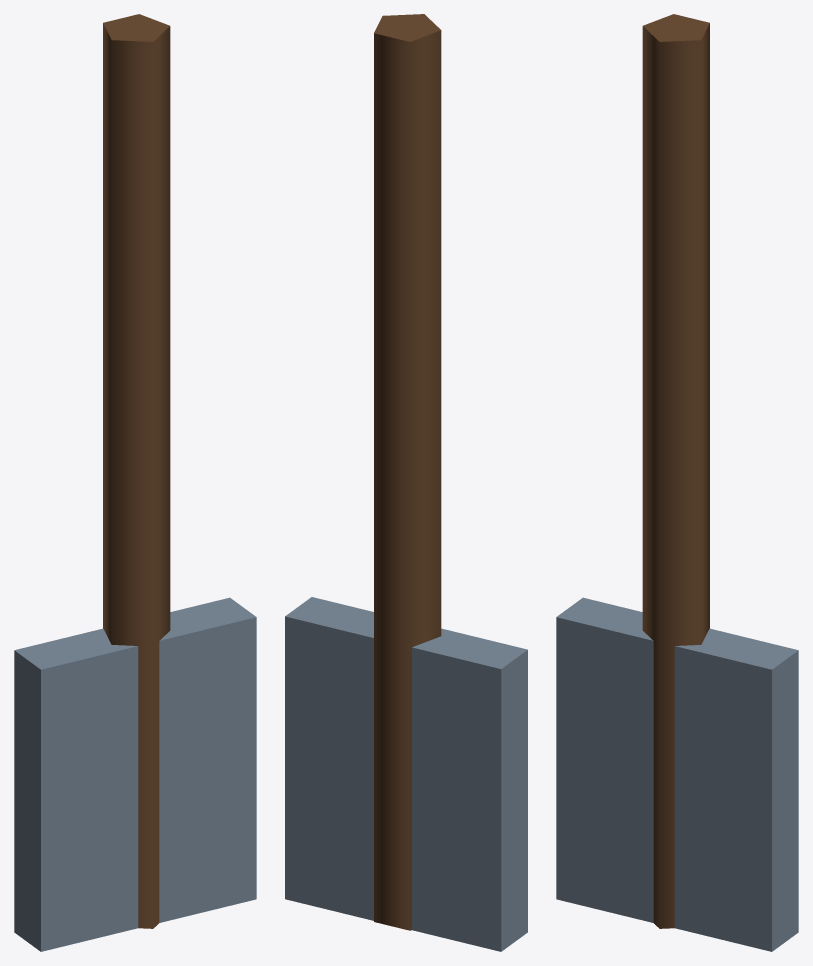
Rendered from shovel.glb.
The picture shows the model from 3 angles, left to right: view 1: azimuth 30°, elevation 25°; view 2: azimuth 150°, elevation 25°; view 3: azimuth 330°, elevation 25°; orthographic projection.
Parts seen in each view (by area): view 1: shovel; view 2: shovel; view 3: shovel.
Boxes of the visible parts, x1,y1,x2,y2 form: shovel: (14, 14, 256, 951); shovel: (285, 14, 527, 951); shovel: (556, 14, 798, 951).
Bounding box in the file's own units: 0.28 × 1.1 × 0.0724.
